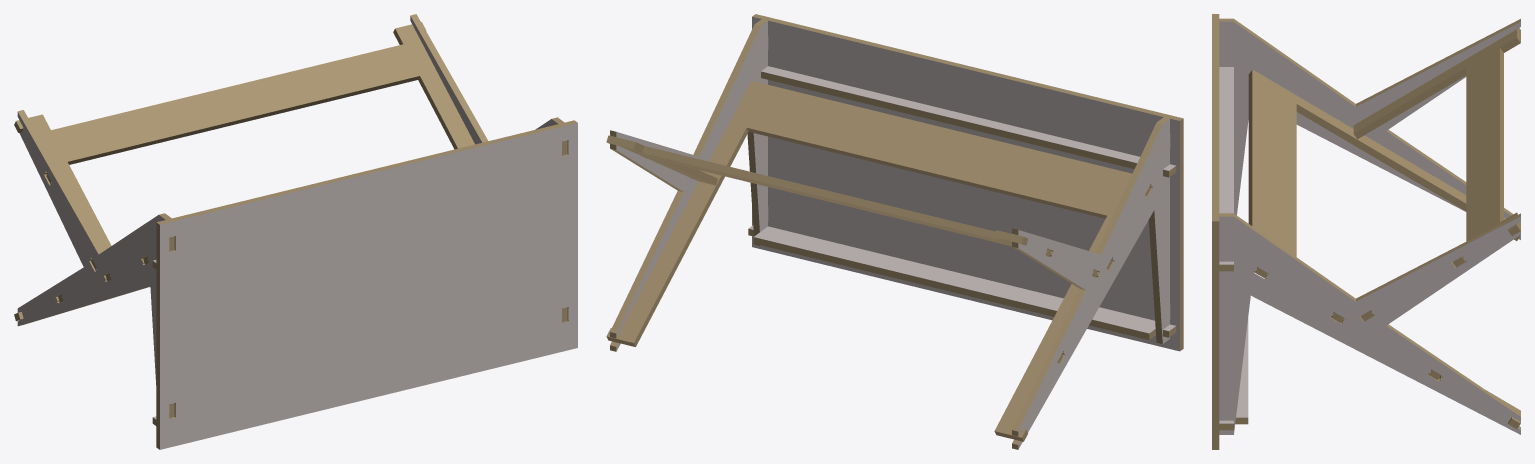
The model's file is NODO_ESCRITORIO_ESCULTORICO_PARAISO_MASTER_COLOR.glb.
3 renders of one model, left to right at view 1: azimuth 30°, elevation 25°; view 2: azimuth 150°, elevation 25°; view 3: azimuth 270°, elevation 25°, orthographic. The views are drawn at different scales.
Visible parts, largest first — view 1: G_Tapa_Superior_cuerpo, B_Escuadra_Trasera_canto, D_Lateral_Izq_cuerpo, G_Tapa_Superior_canto, D_Lateral_Izq_canto, C_Lateral_Der_canto, C_Lateral_Der_cuerpo; view 2: G_Tapa_Superior_cuerpo, A_Escuadra_Delantera_canto, D_Lateral_Izq_cuerpo, C_Lateral_Der_cuerpo, F_Traba_Delantera_cuerpo, B_Escuadra_Trasera_canto, D_Lateral_Izq_canto, C_Lateral_Der_canto, E_Traba_Trasera_cuerpo, E_Traba_Trasera_canto, F_Traba_Delantera_canto, G_Tapa_Superior_canto; view 3: C_Lateral_Der_cuerpo, D_Lateral_Izq_cuerpo, A_Escuadra_Delantera_canto, B_Escuadra_Trasera_canto, G_Tapa_Superior_canto, E_Traba_Trasera_cuerpo, C_Lateral_Der_canto, D_Lateral_Izq_canto, F_Traba_Delantera_cuerpo.
Boxes of the visible parts, x1,y1,x2,y2 form: G_Tapa_Superior_cuerpo: (160,123,577,449); B_Escuadra_Trasera_canto: (14,22,474,269); D_Lateral_Izq_cuerpo: (17,112,165,384); G_Tapa_Superior_canto: (156,120,577,449); D_Lateral_Izq_canto: (17,110,174,417); C_Lateral_Der_canto: (410,14,567,321); C_Lateral_Der_cuerpo: (410,16,557,144); G_Tapa_Superior_cuerpo: (752,16,1179,351); A_Escuadra_Delantera_canto: (606,80,1150,441); D_Lateral_Izq_cuerpo: (1018,119,1170,449); C_Lateral_Der_cuerpo: (616,21,768,351); F_Traba_Delantera_cuerpo: (749,225,1175,333); B_Escuadra_Trasera_canto: (606,135,1097,277); D_Lateral_Izq_canto: (1012,117,1169,449); C_Lateral_Der_canto: (610,19,767,351); E_Traba_Trasera_cuerpo: (761,66,1175,170); E_Traba_Trasera_canto: (761,71,1176,177); F_Traba_Delantera_canto: (748,228,1176,339); G_Tapa_Superior_canto: (752,14,1183,350); C_Lateral_Der_cuerpo: (1219,216,1520,434); D_Lateral_Izq_cuerpo: (1219,21,1520,239); A_Escuadra_Delantera_canto: (1248,69,1520,428); B_Escuadra_Trasera_canto: (1353,28,1520,320); G_Tapa_Superior_canto: (1212,14,1219,449); E_Traba_Trasera_cuerpo: (1219,67,1233,264); C_Lateral_Der_canto: (1219,213,1520,429); D_Lateral_Izq_canto: (1219,18,1520,215); F_Traba_Delantera_cuerpo: (1219,318,1248,423).
Size of the model in its own units: 1.22 by 0.628 by 0.7681.
